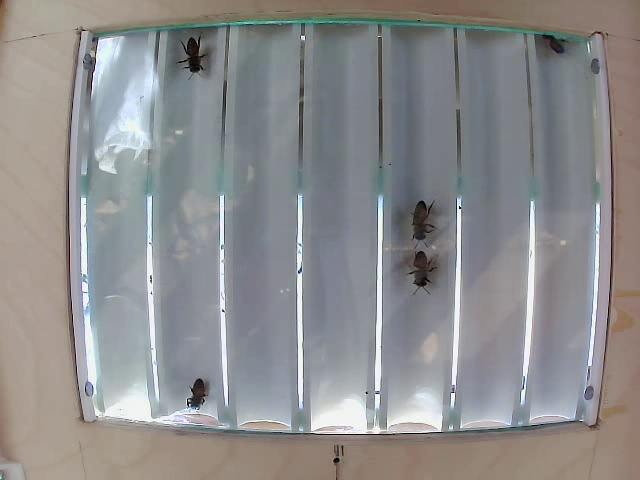bee: (402, 252, 450, 303), (536, 39, 575, 79), (408, 208, 450, 244), (184, 389, 215, 421), (183, 43, 213, 76)
